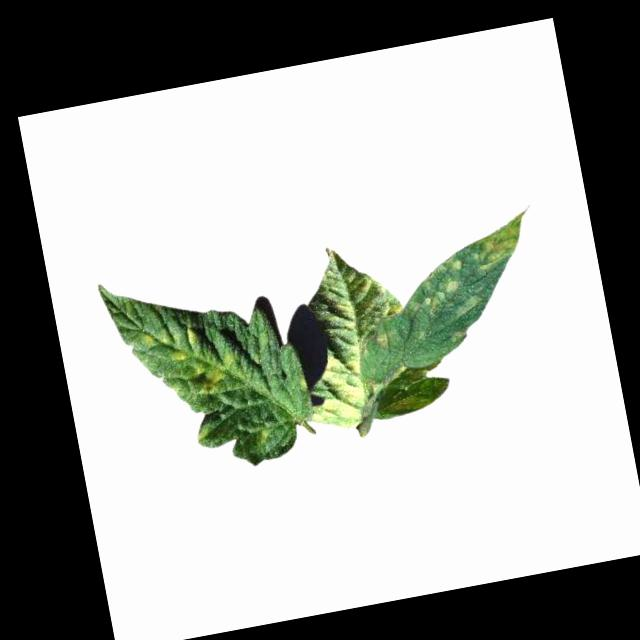Leaf_Mold: (301, 342, 372, 436), (466, 215, 529, 272), (140, 322, 202, 368), (404, 280, 464, 318), (190, 351, 237, 398), (433, 255, 466, 278), (369, 329, 398, 353)
